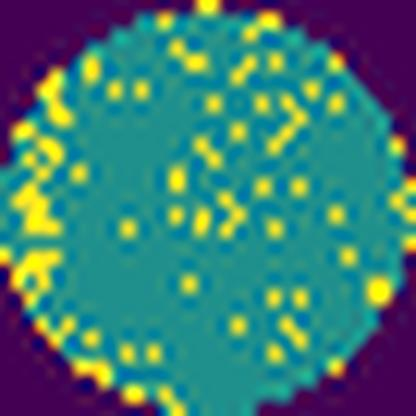Scratch: (6, 121, 68, 239)
